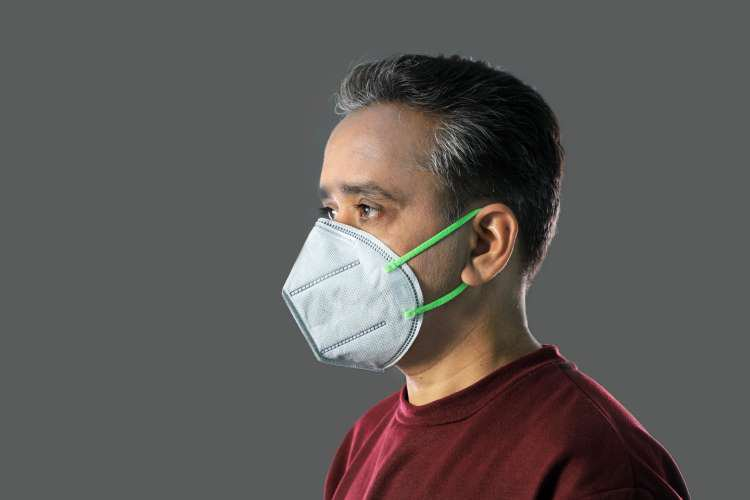mask: (278, 43, 564, 375)
